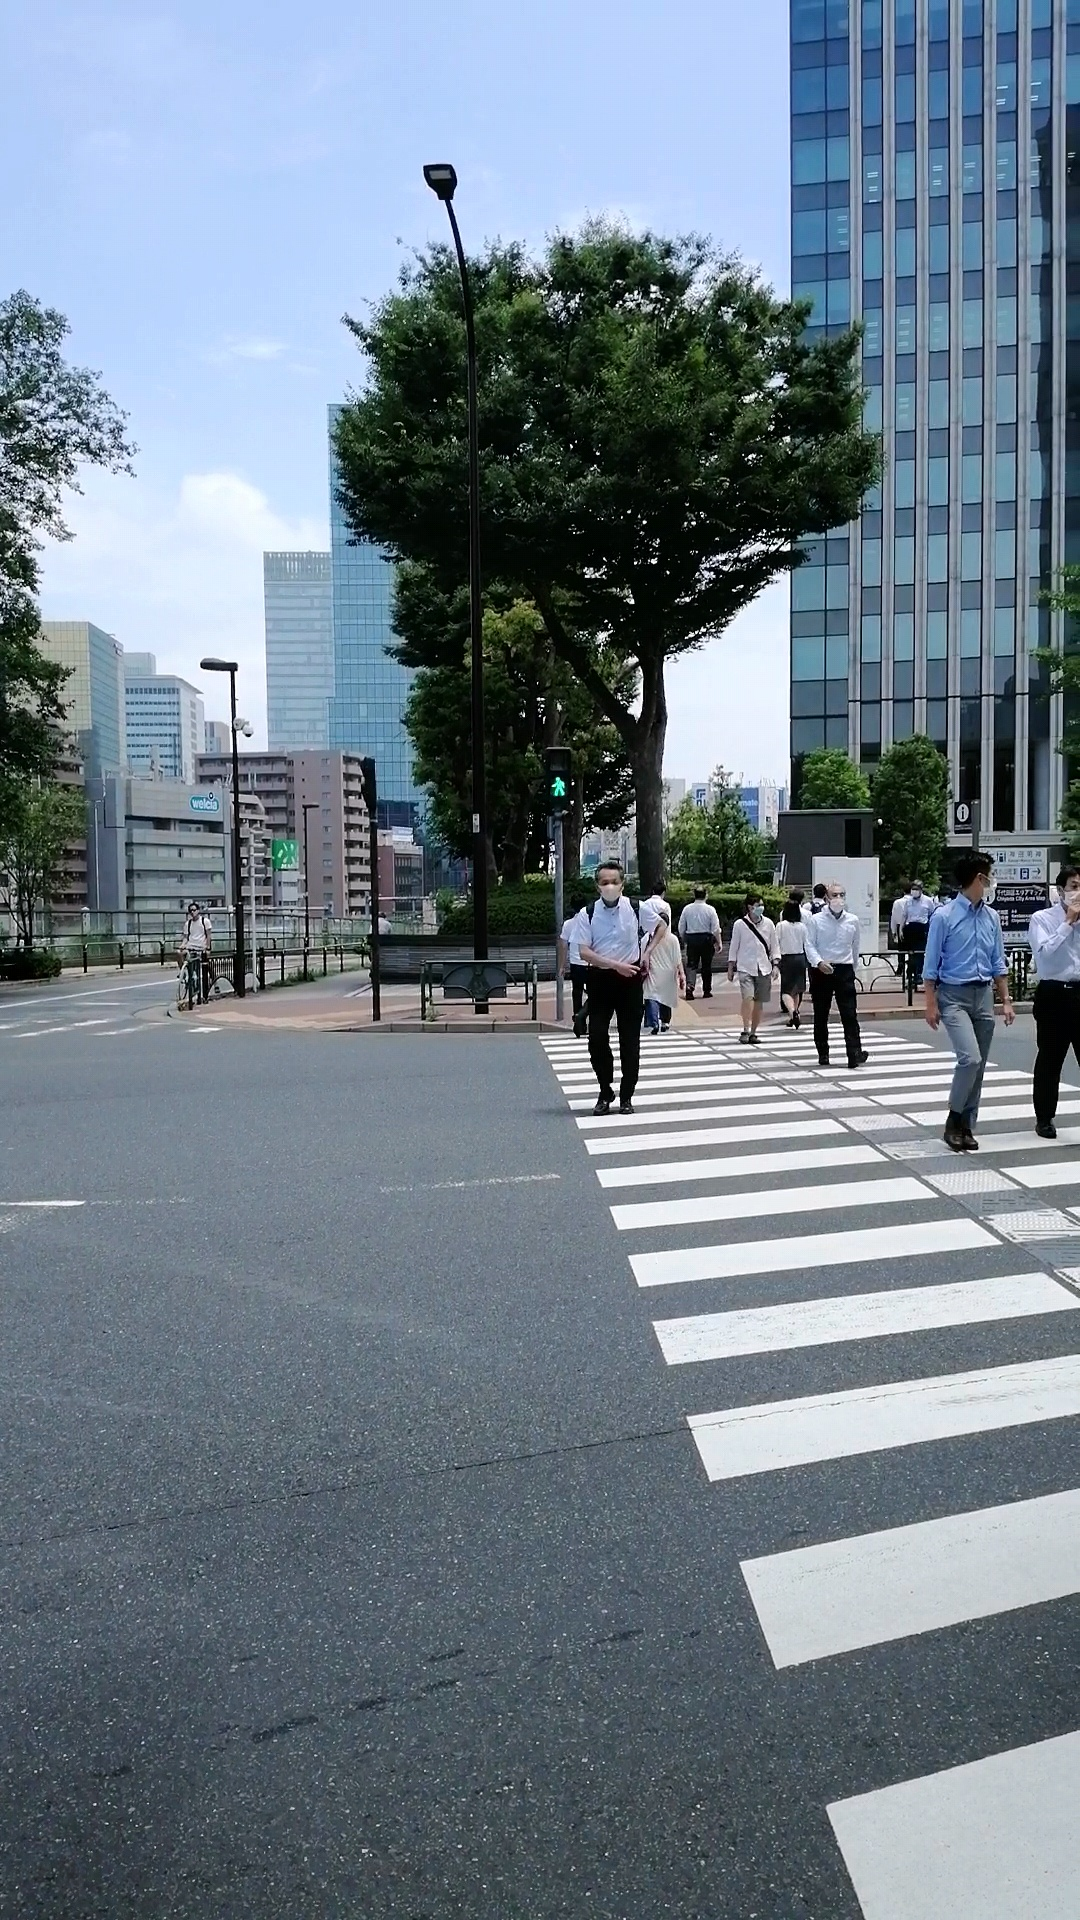green: (541, 746, 574, 806)
